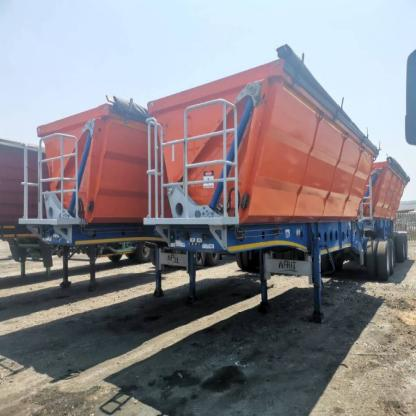dump_truck: (148, 38, 415, 319)
